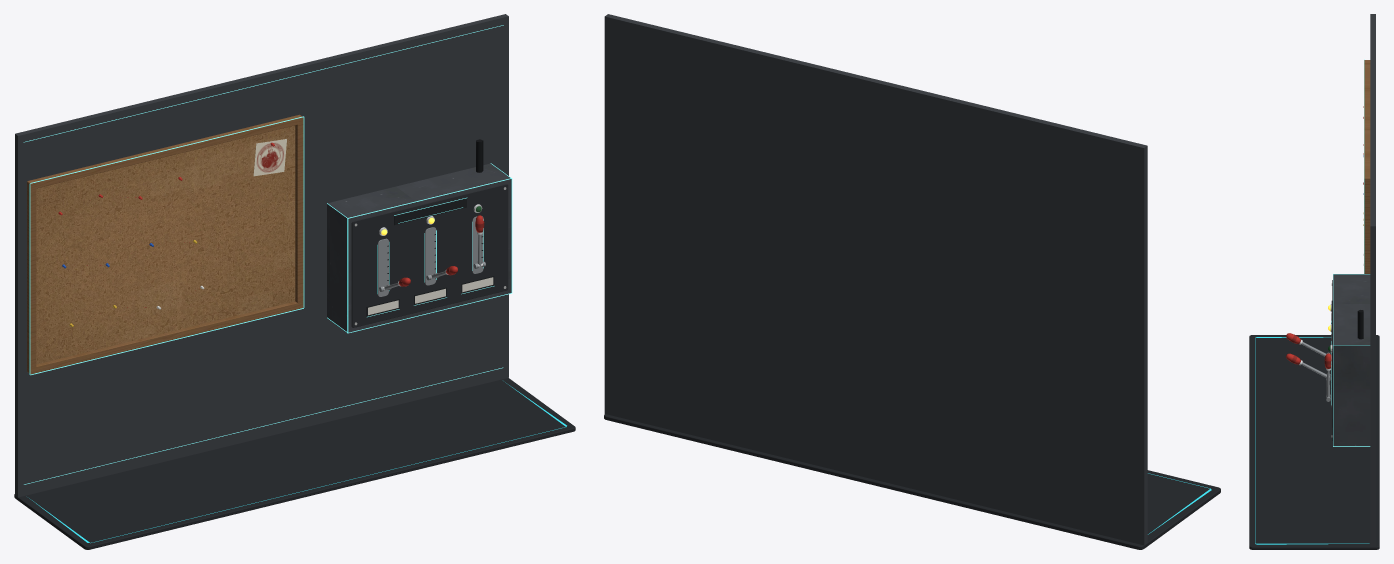
3 renders of one model, left to right at view 1: azimuth 30°, elevation 25°; view 2: azimuth 150°, elevation 25°; view 3: azimuth 270°, elevation 25°, orthographic. The views are drawn at different scales.
Visible parts, largest first — view 1: parede, cortica_area_texto, base_peca, painel_face, cortica_moldura, painel_caixa, cortica_cartao_carimbo_papel, painel_placa_topo, base_peca_linha; view 2: parede, base_peca; view 3: base_peca, painel_caixa, parede, cortica_moldura, base_peca_linha, painel_conduite.
Part boxes in pixels (left/top/right/bottom): parede: left=15, top=14, right=508, bottom=497; cortica_area_texto: left=36, top=125, right=295, bottom=364; base_peca: left=14, top=378, right=575, bottom=549; painel_face: left=351, top=184, right=508, bottom=327; cortica_moldura: left=27, top=114, right=303, bottom=374; painel_caixa: left=327, top=163, right=511, bottom=332; cortica_cartao_carimbo_papel: left=253, top=139, right=286, bottom=176; painel_placa_topo: left=394, top=198, right=466, bottom=225; base_peca_linha: left=29, top=382, right=566, bottom=543; parede: left=604, top=14, right=1147, bottom=545; base_peca: left=604, top=414, right=1220, bottom=549; base_peca: left=1249, top=335, right=1379, bottom=549; painel_caixa: left=1333, top=274, right=1370, bottom=446; parede: left=1370, top=14, right=1375, bottom=546; cortica_moldura: left=1364, top=60, right=1370, bottom=273; base_peca_linha: left=1255, top=337, right=1369, bottom=544; painel_conduite: left=1357, top=310, right=1363, bottom=339.
Bounding box in the file's own units: 2.7 × 1.92 × 0.6999.
25 materials, 4 textured.
